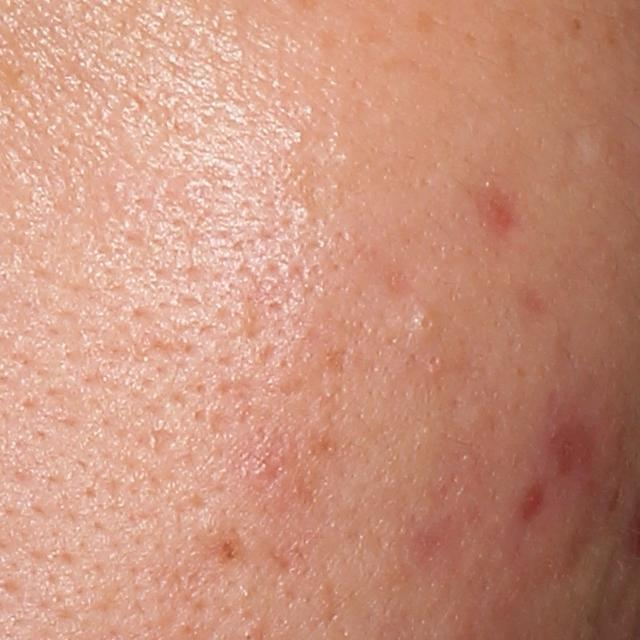comedo: (403, 299, 439, 341)
papule: (521, 481, 547, 517)
